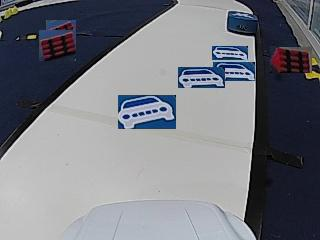prop: (226, 11, 258, 34)
